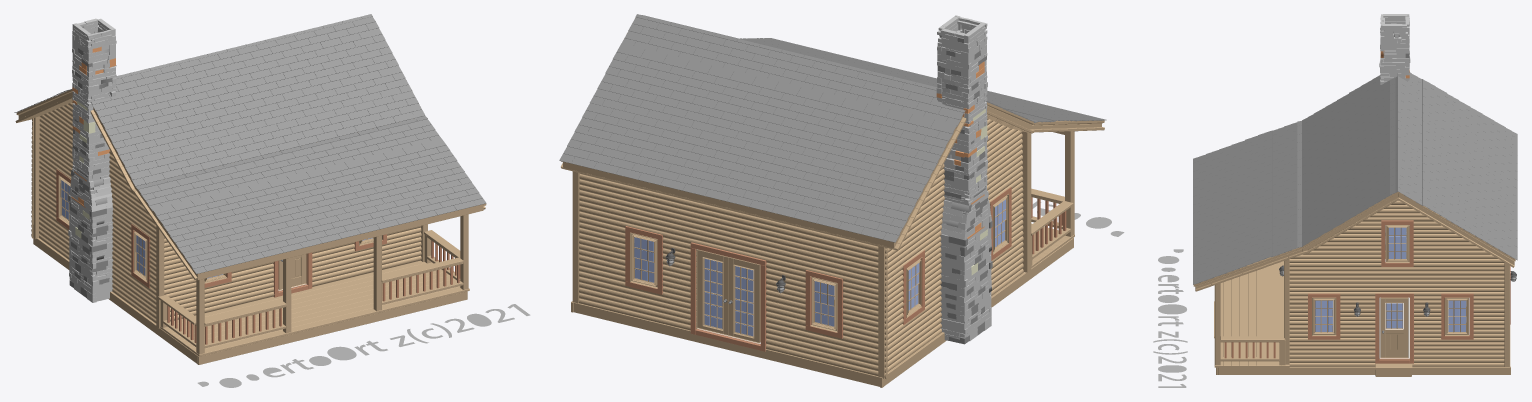
File: RobertoHouse.glb
3 renders of one model, left to right at view 1: azimuth 30°, elevation 25°; view 2: azimuth 150°, elevation 25°; view 3: azimuth 270°, elevation 25°, orthographic. The views are drawn at different scales.
Visible parts, largest first — view 1: Log2_v024:Layer1; view 2: Log2_v024:Layer1; view 3: Log2_v024:Layer1.
Part boxes in pixels (x1=…): Log2_v024:Layer1: x1=14, y1=14, x2=530, y2=387; Log2_v024:Layer1: x1=559, y1=14, x2=1124, y2=387; Log2_v024:Layer1: x1=1153, y1=14, x2=1517, y2=387.
Size of the model in its own units: 8.84 by 7.03 by 9.8.
